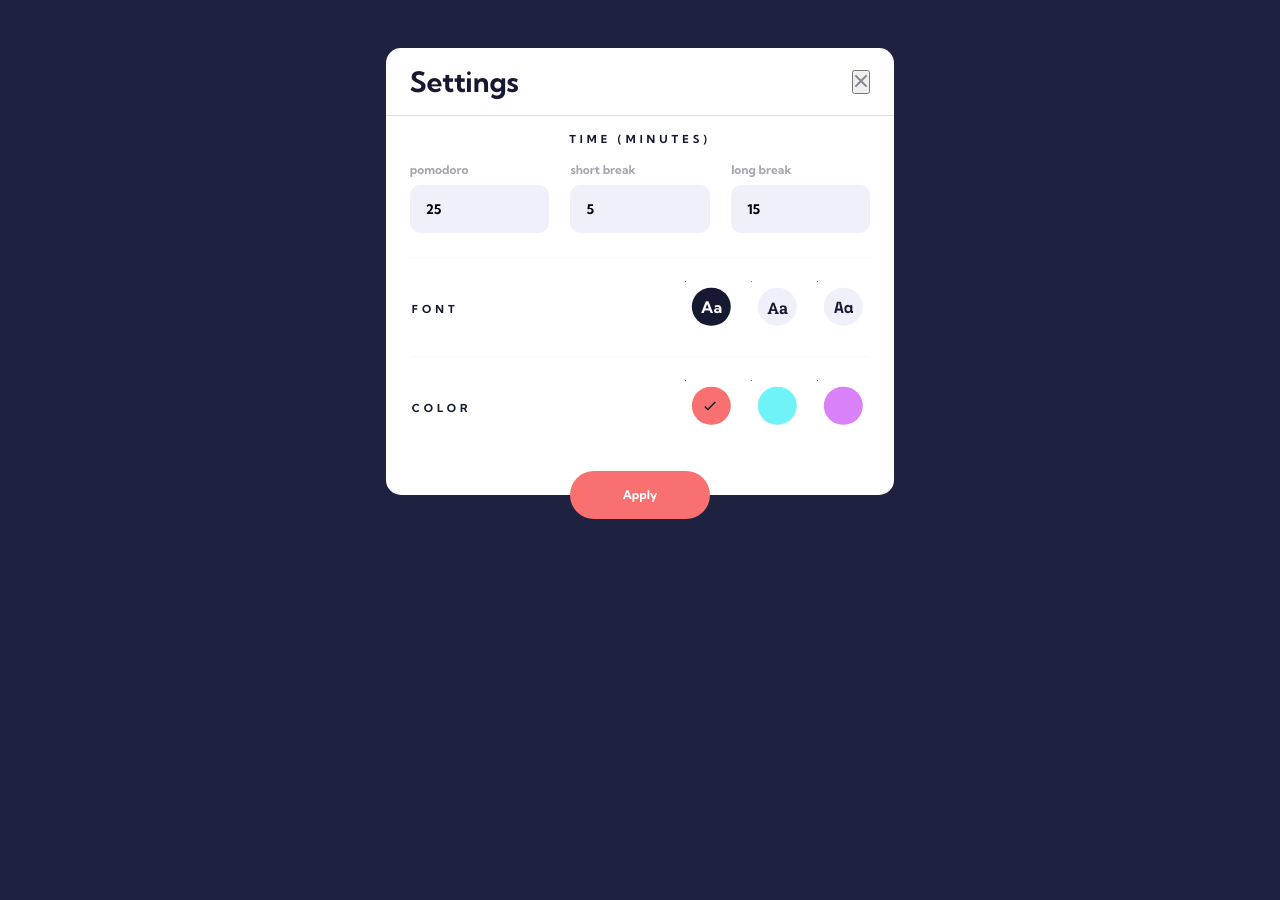
Test case: SettingsModal Component › displays error messages for invalid inputs and prevents submission
The width and height of the screenshot is (1280, 900).
Note: Clear the Pomodoro input completely
Step 1. Clear the number field labelled "Pomodoro" → (479, 209), box [410, 185, 549, 233]
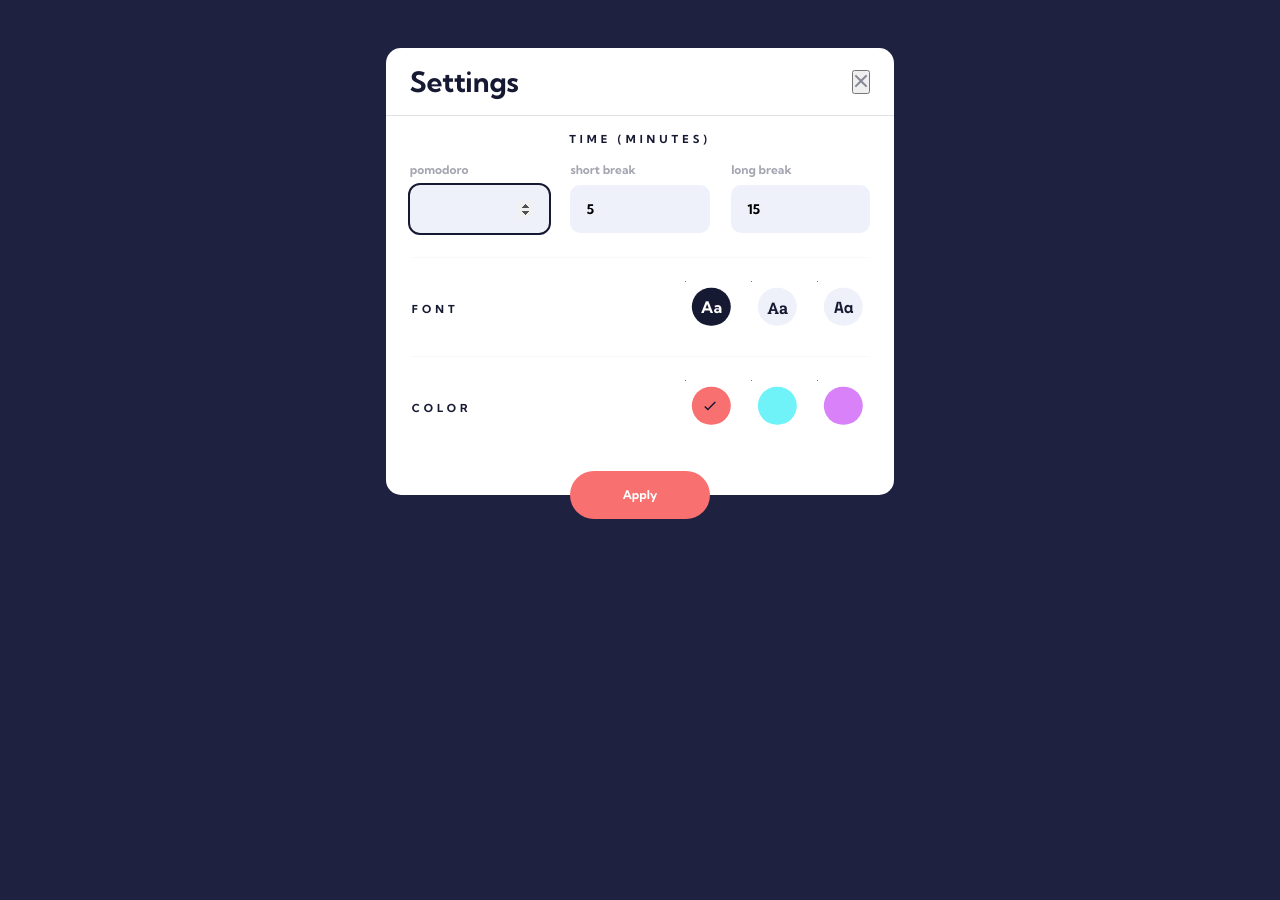
Note: Set Short Break to an invalid number (0)
Step 2. Replace the text in the number field labelled "Short break" with "0" → (640, 209), box [570, 185, 710, 233]
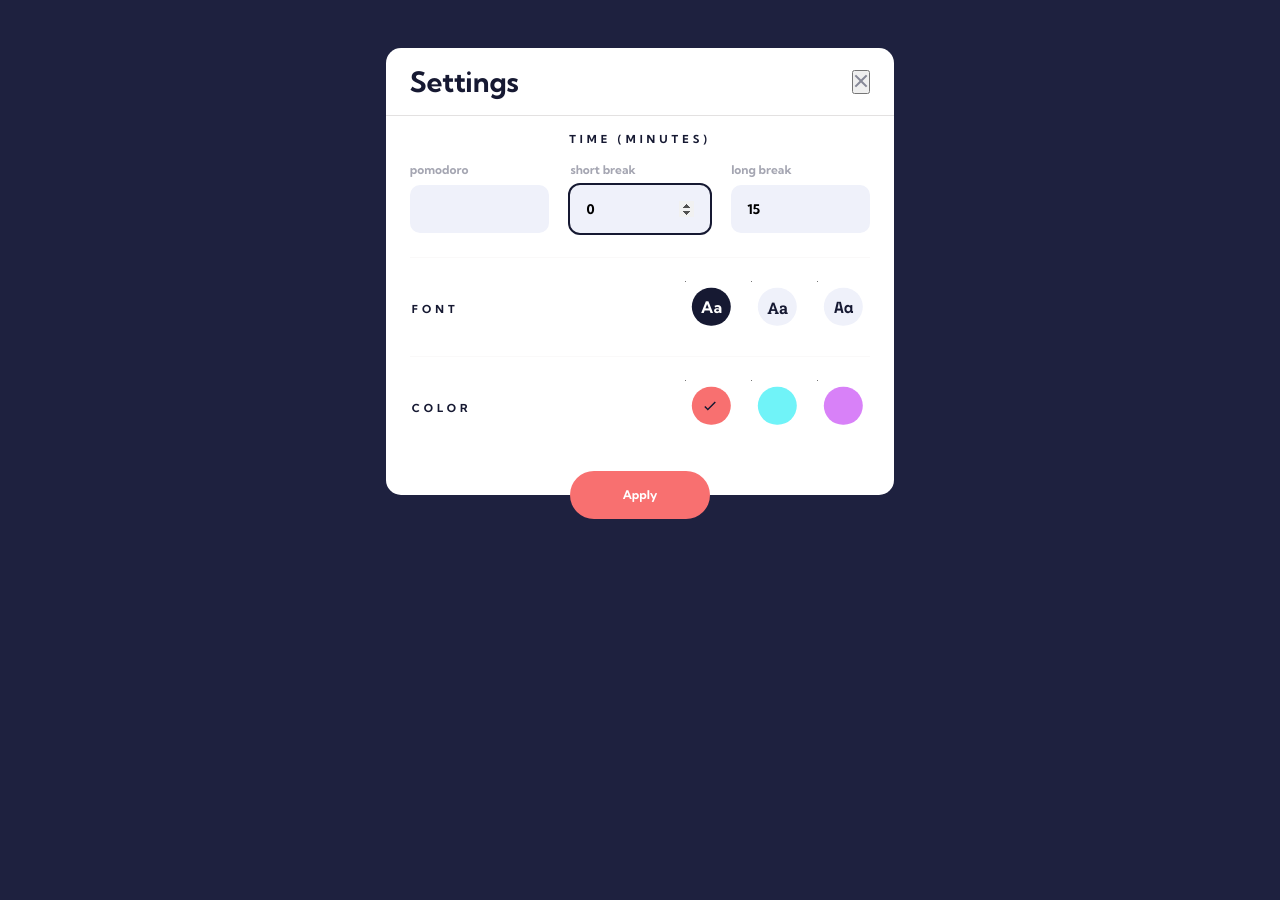
Note: Attempt to submit
Step 3. Click the button "Apply" → (640, 495), box [570, 471, 710, 519]
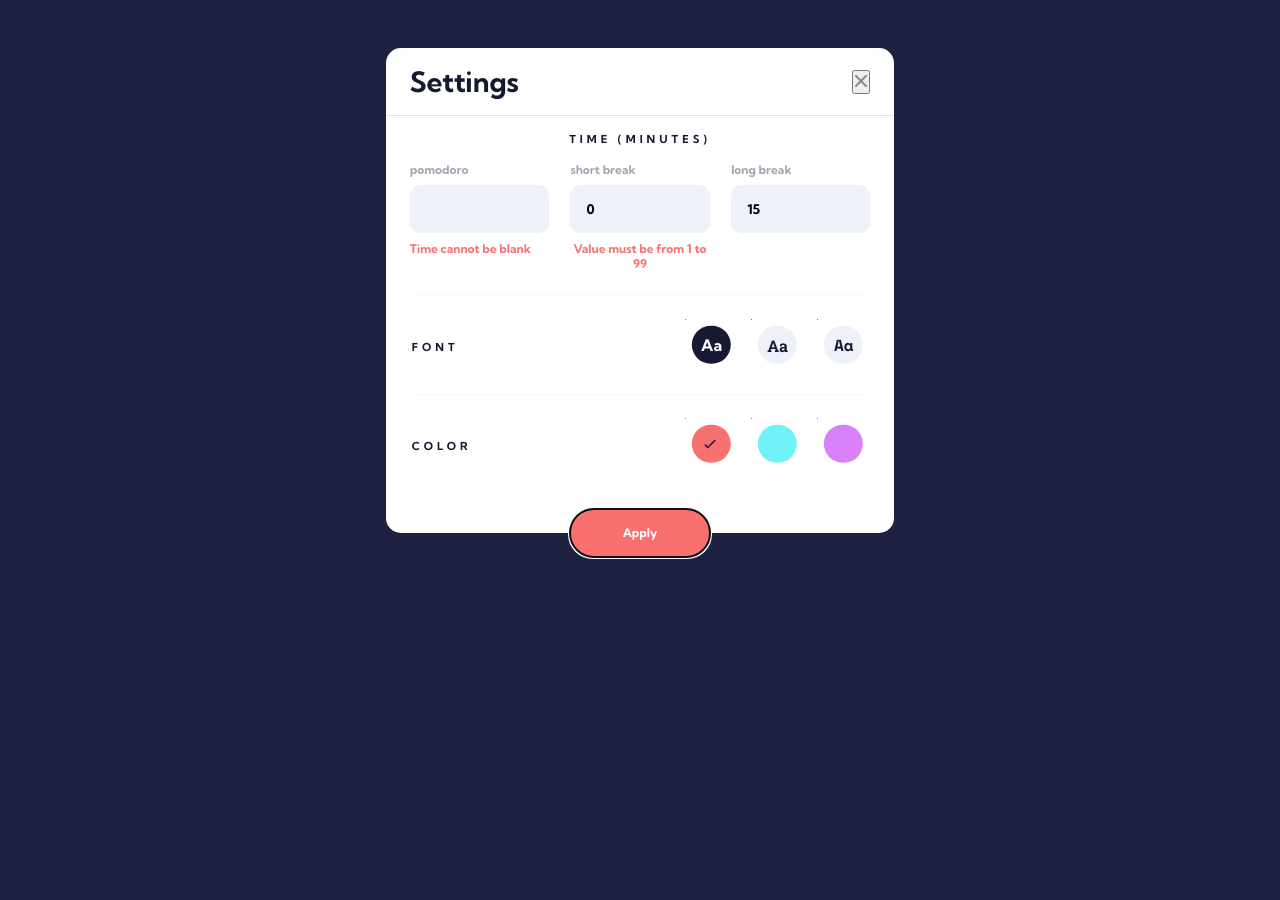
Expected: the text "Time cannot be blank" is shown, [410, 241, 549, 256]
Expected: the text "Value must be from 1 to 99" is shown, [570, 241, 710, 271]
